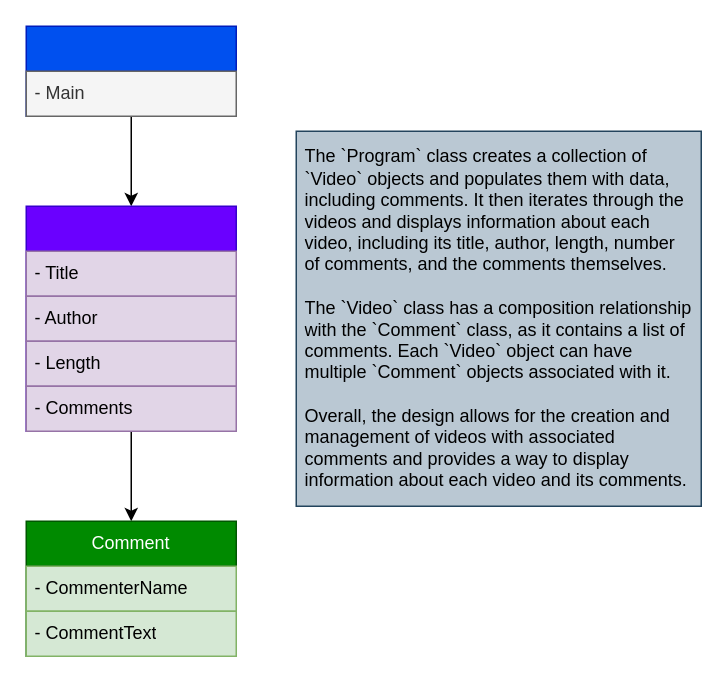
This 728x683 diagram has some shape labels left out. The shapes that lost their labels are listed below. From the top down, each one's box as (x1, y1, x2, y2) in pixels, then its label:
(25, 25, 236, 116): Program
(25, 205, 236, 431): Video
